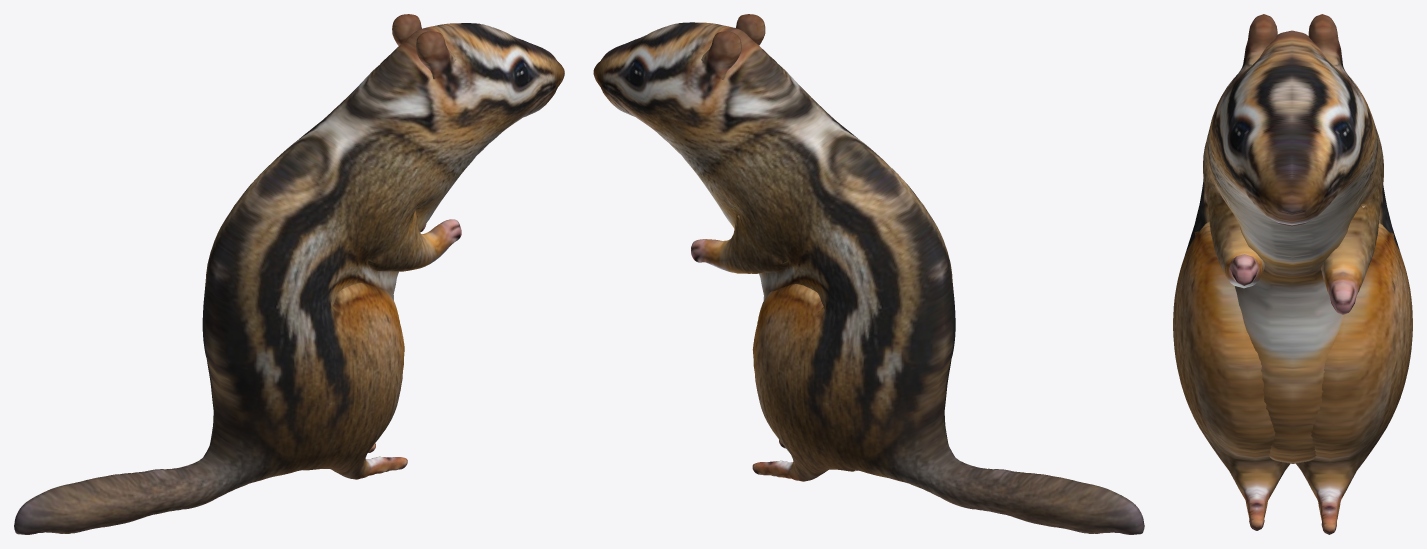
File: chipmunk.glb
3 views of the same model, side by side, from view 1: azimuth 30°, elevation 25°; view 2: azimuth 150°, elevation 25°; view 3: azimuth 270°, elevation 25° (orthographic). The views are drawn at different scales.
Visible parts, largest first — view 1: mesh_0; view 2: mesh_0; view 3: mesh_0.
Boxes of the visible parts, left/top/right/bottom form: mesh_0: left=14, top=14, right=564, bottom=534; mesh_0: left=593, top=14, right=1144, bottom=534; mesh_0: left=1173, top=14, right=1412, bottom=534.
Size of the model in its own units: 8.45 by 6.36 by 2.57.
Materials: 1 (1 with a texture image).
